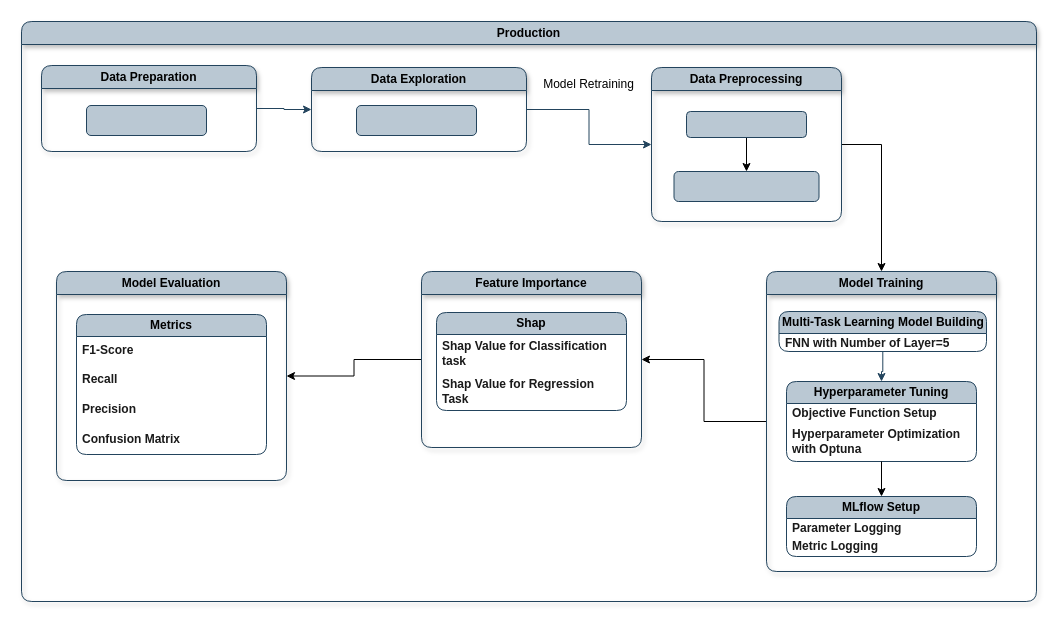
This 1060x626 diagram has some shape labels left out. The centre of each missing label's shape, as x and y in pixels:
Data Cleaning: point (146, 120)
Data Spliting: point (746, 124)
General Exploration: point (416, 120)
Label Encoding: point (746, 186)
